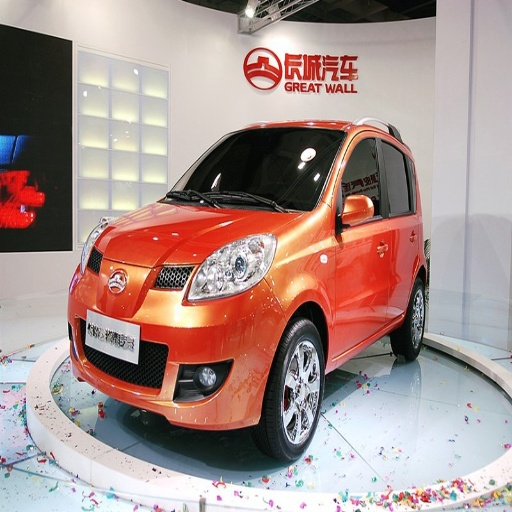back_left_door: (378, 130, 418, 321)
front_bumper: (71, 256, 288, 426)
front_glass: (162, 128, 342, 210)
front_left_door: (335, 129, 391, 355)
